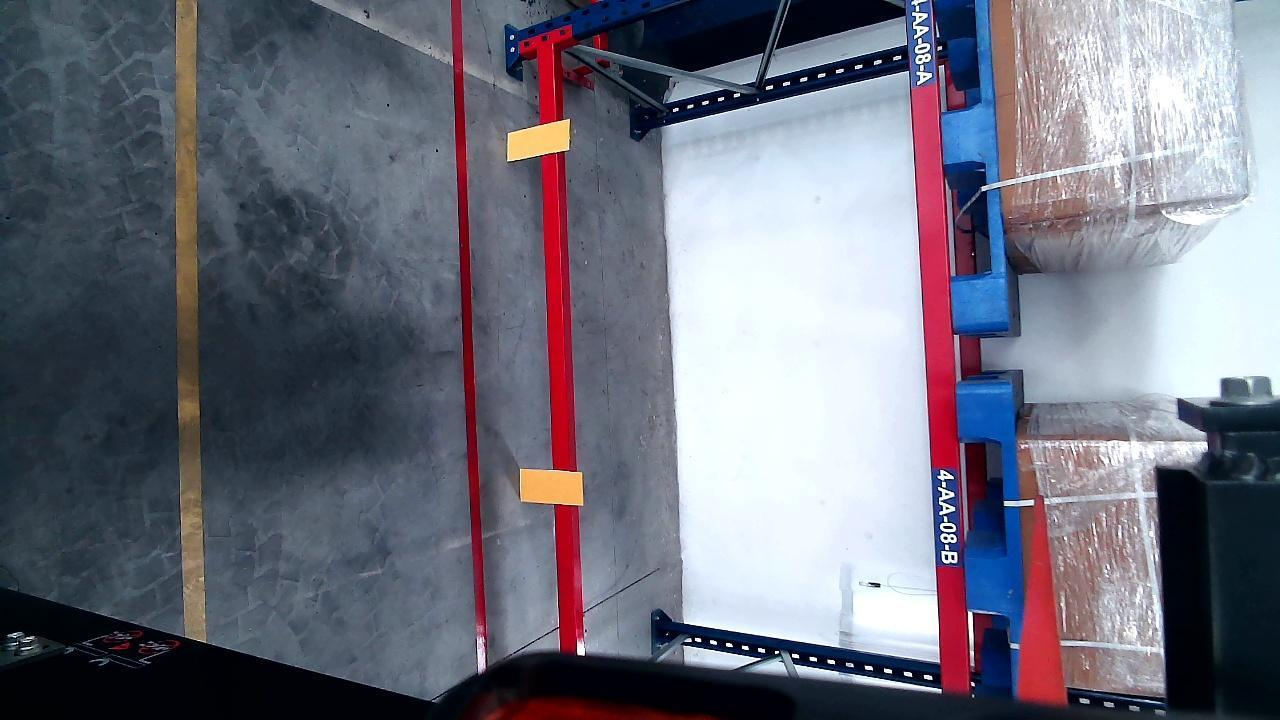h_rack: (906, 0, 969, 681), (541, 32, 580, 652)
orange_strip: (506, 119, 570, 160), (519, 468, 582, 504)
red_line: (453, 0, 489, 674)
small_pallet: (962, 386, 1029, 689)
yellow_line: (172, 0, 205, 645)
